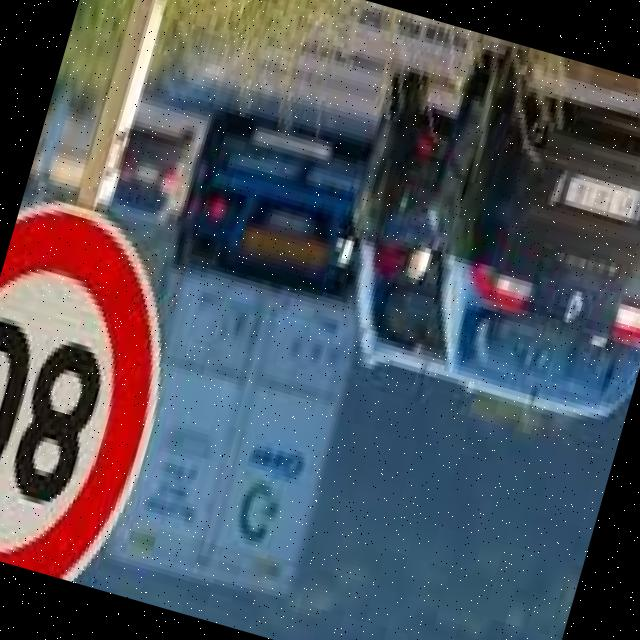speed_limit_80: (0, 195, 209, 592)
